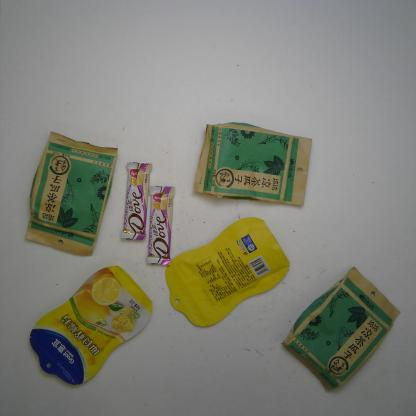Chocolate: (119, 161, 152, 241), (145, 184, 176, 267)
Dried Food: (282, 265, 400, 392), (25, 132, 114, 259), (192, 119, 312, 208)
Dried Fruit: (28, 264, 154, 386), (164, 216, 292, 329)
